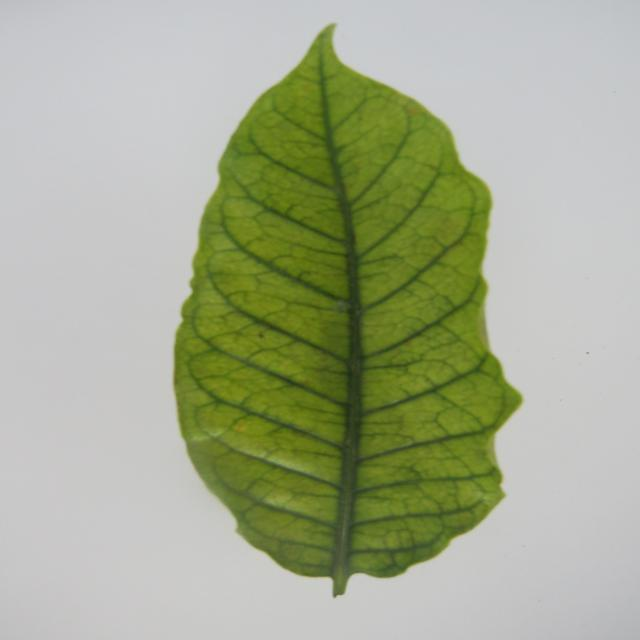DeficienciaNutricional-Manganeso: (175, 25, 520, 595)
